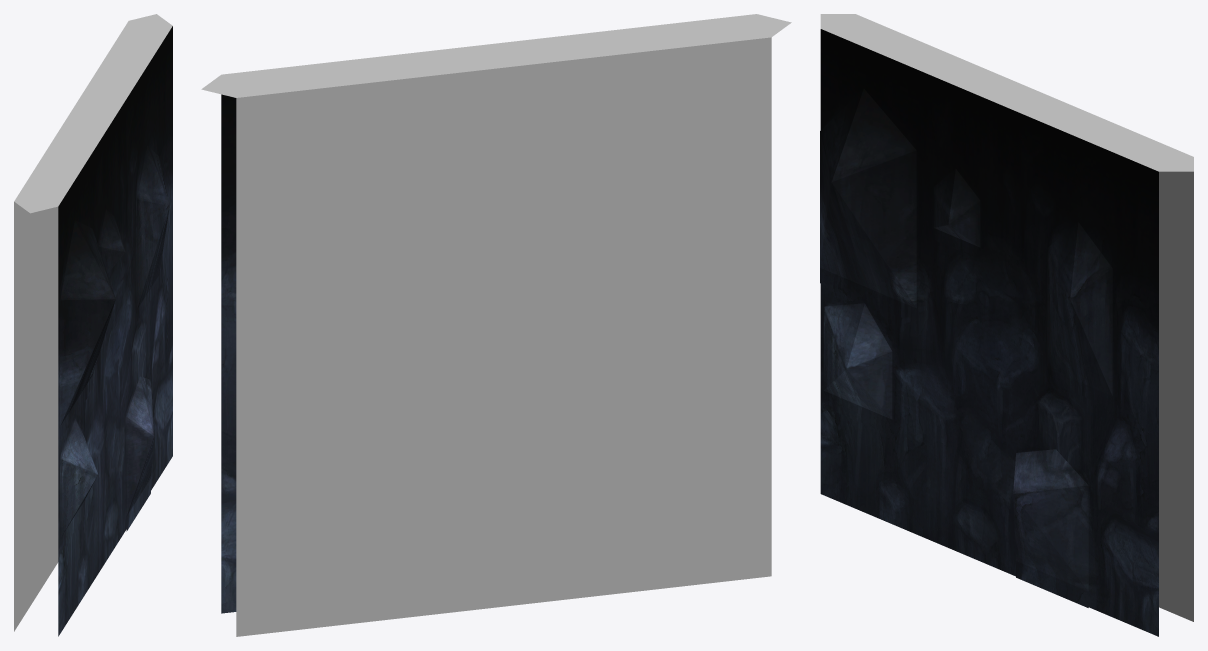
The model's file is mine_fade_diagonal_01.fbx.
3 renders of one model, left to right at view 1: azimuth 30°, elevation 25°; view 2: azimuth 150°, elevation 25°; view 3: azimuth 270°, elevation 25°, orthographic. The views are drawn at different scales.
Visible parts, largest first — view 1: obj1.021; view 2: obj1.021; view 3: obj1.021.
Part boxes in pixels (bbox=[...]): obj1.021: bbox=[14, 14, 172, 636]; obj1.021: bbox=[201, 14, 791, 636]; obj1.021: bbox=[820, 14, 1193, 636].
Bounding box in the file's own units: 4 × 5.5 × 4.01.
